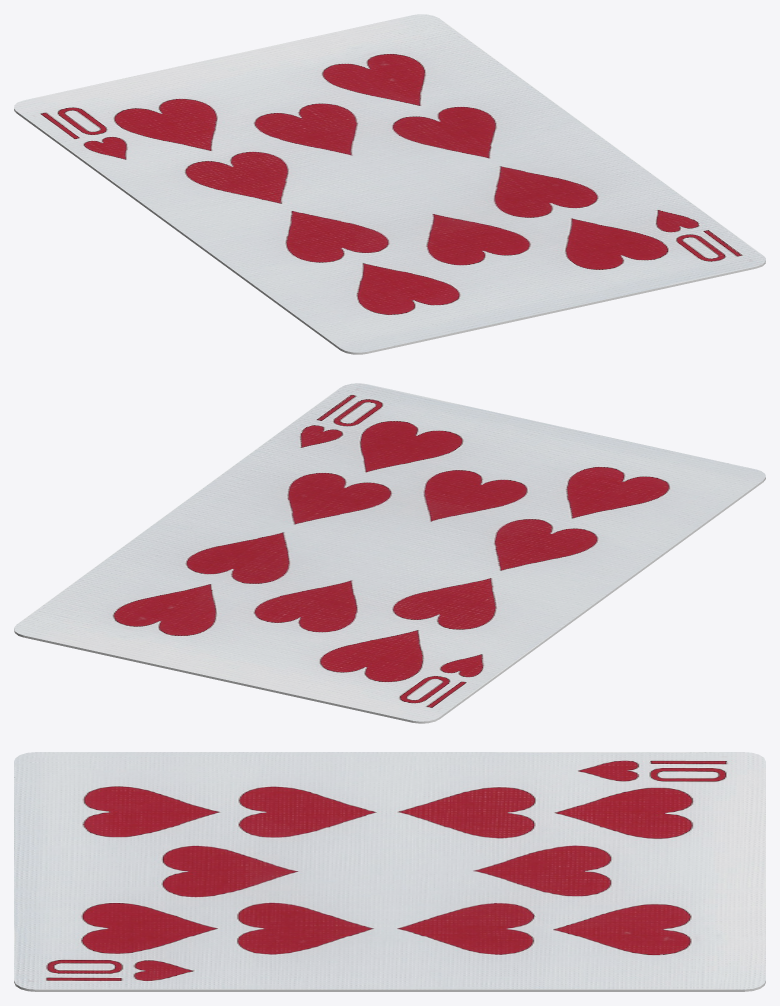
The model's file is hearts10.fbx.
3 views of the same model, one above another, from view 1: azimuth 30°, elevation 25°; view 2: azimuth 150°, elevation 25°; view 3: azimuth 270°, elevation 25° (orthographic). The views are drawn at different scales.
Parts seen in each view (by area): view 1: Hearts_10_5; view 2: Hearts_10_5; view 3: Hearts_10_5.
Part boxes in pixels (x1,y1,x2,y2): Hearts_10_5: [14, 14, 765, 354]; Hearts_10_5: [14, 383, 765, 723]; Hearts_10_5: [14, 752, 765, 991].
Size of the model in its own units: 6.26 by 0.1776 by 8.8.
